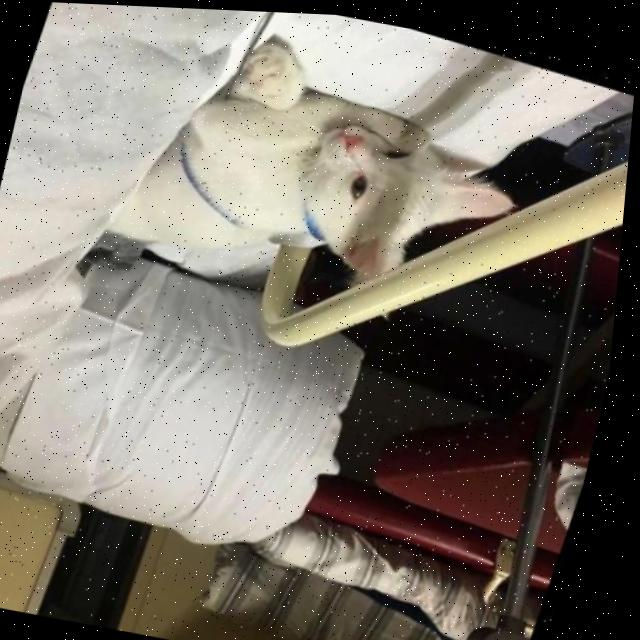Cats: (95, 5, 533, 333)
